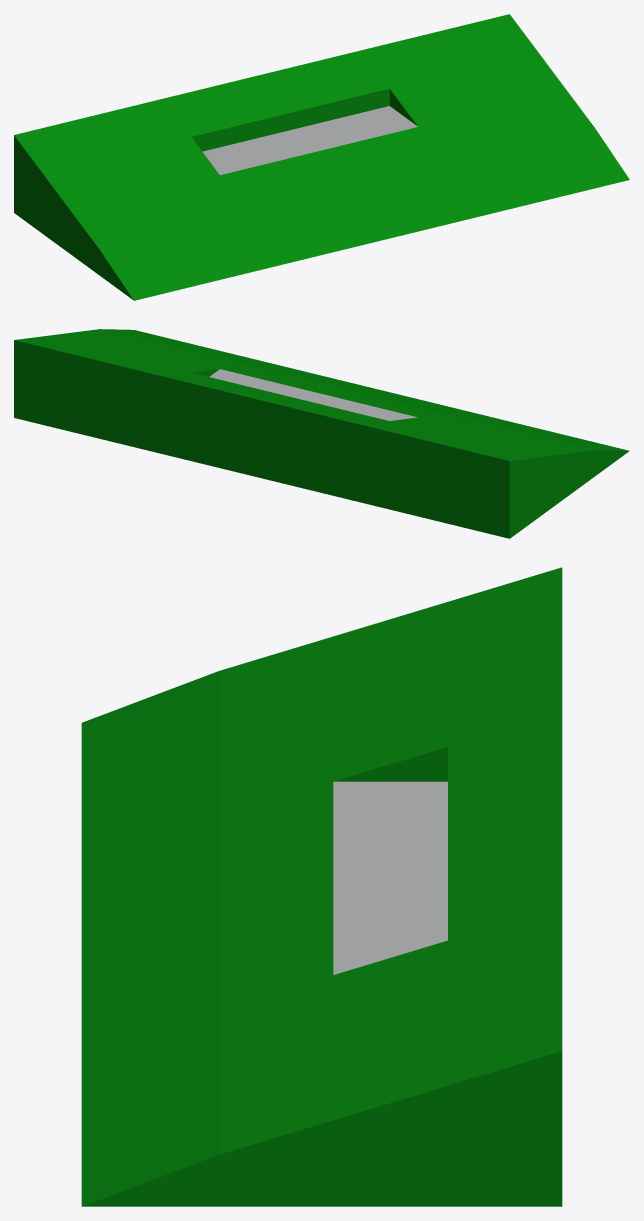
File: table_R07_slope._collision.glb
The picture shows the model from 3 angles, top to bottom: view 1: azimuth 30°, elevation 25°; view 2: azimuth 150°, elevation 25°; view 3: azimuth 270°, elevation 25°; orthographic projection. The views are drawn at different scales.
Parts seen in each view (by area): view 1: _colonly; view 2: _colonly; view 3: _colonly.
Part boxes in pixels (<box>): _colonly: <box>14,14,629,300</box>; _colonly: <box>14,329,629,538</box>; _colonly: <box>81,567,562,1206</box>.
Size of the model in its own units: 2 by 0.3 by 0.84.
